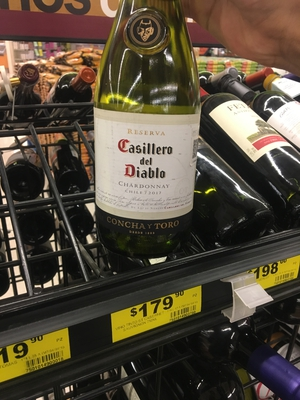casillero del diablo chardonnay: (85, 7, 207, 263)
